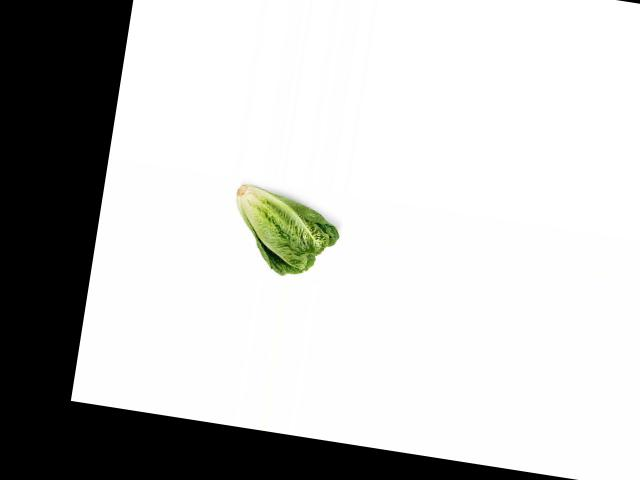lettuce: (218, 179, 344, 281)
